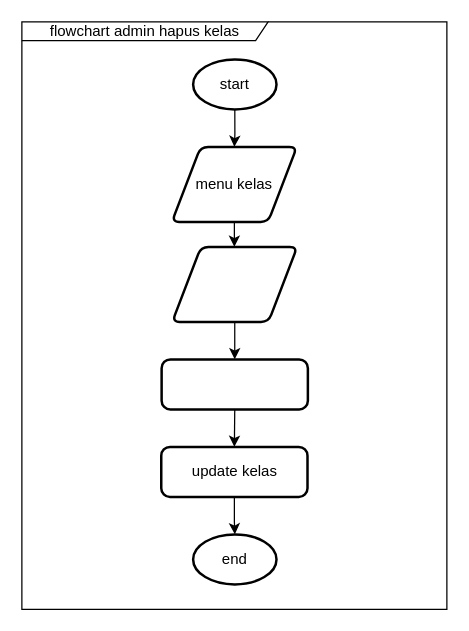
This 469x631 diagram has some shape labels left out. The shapes that lost their labels are listed below. From the top down, each one's centre as x and y in pixels, then its label:
At pixel 234 283: "hapus kelas".
At pixel 234 384: "get id_kelas".
